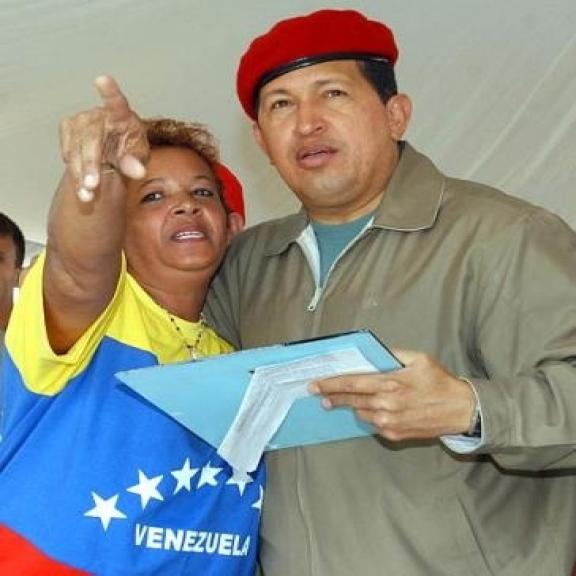face: (244, 51, 419, 205), (120, 130, 229, 278)
